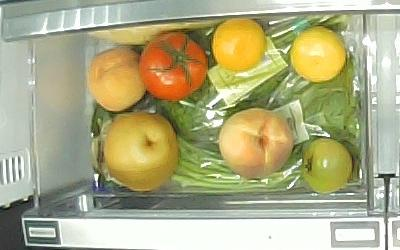peach: (218, 108, 293, 179), (87, 46, 147, 113)
pear: (102, 111, 181, 192)
tangerine: (290, 26, 346, 82), (212, 17, 265, 71)
tomato: (140, 31, 208, 103), (302, 139, 354, 195)
